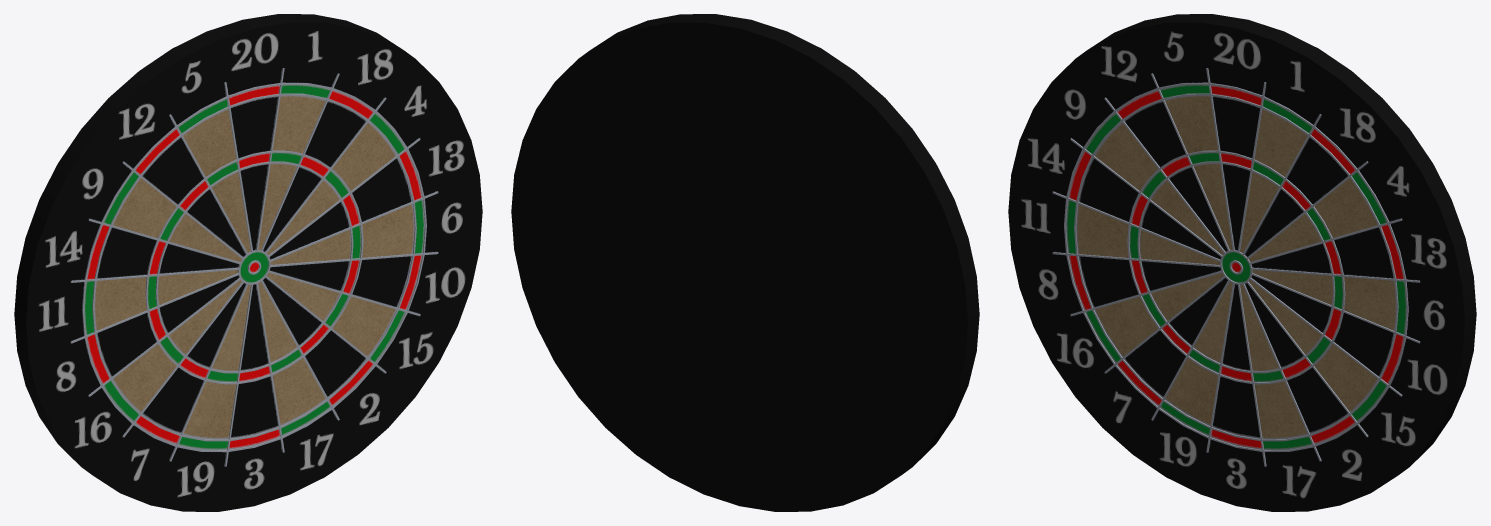
Rendered from Target.FBX.
The picture shows the model from 3 angles, left to right: view 1: azimuth 30°, elevation 25°; view 2: azimuth 150°, elevation 25°; view 3: azimuth 330°, elevation 25°; orthographic projection.
Visible parts, largest first — view 1: Target_LOD0; view 2: Target_LOD0; view 3: Target_LOD0.
Boxes of the visible parts, bbox=[...] form: Target_LOD0: bbox=[14, 14, 482, 511]; Target_LOD0: bbox=[511, 14, 979, 511]; Target_LOD0: bbox=[1008, 14, 1476, 511].
Size of what is drawn, in the model's own units: 45.1 by 45.1 by 2.1.
